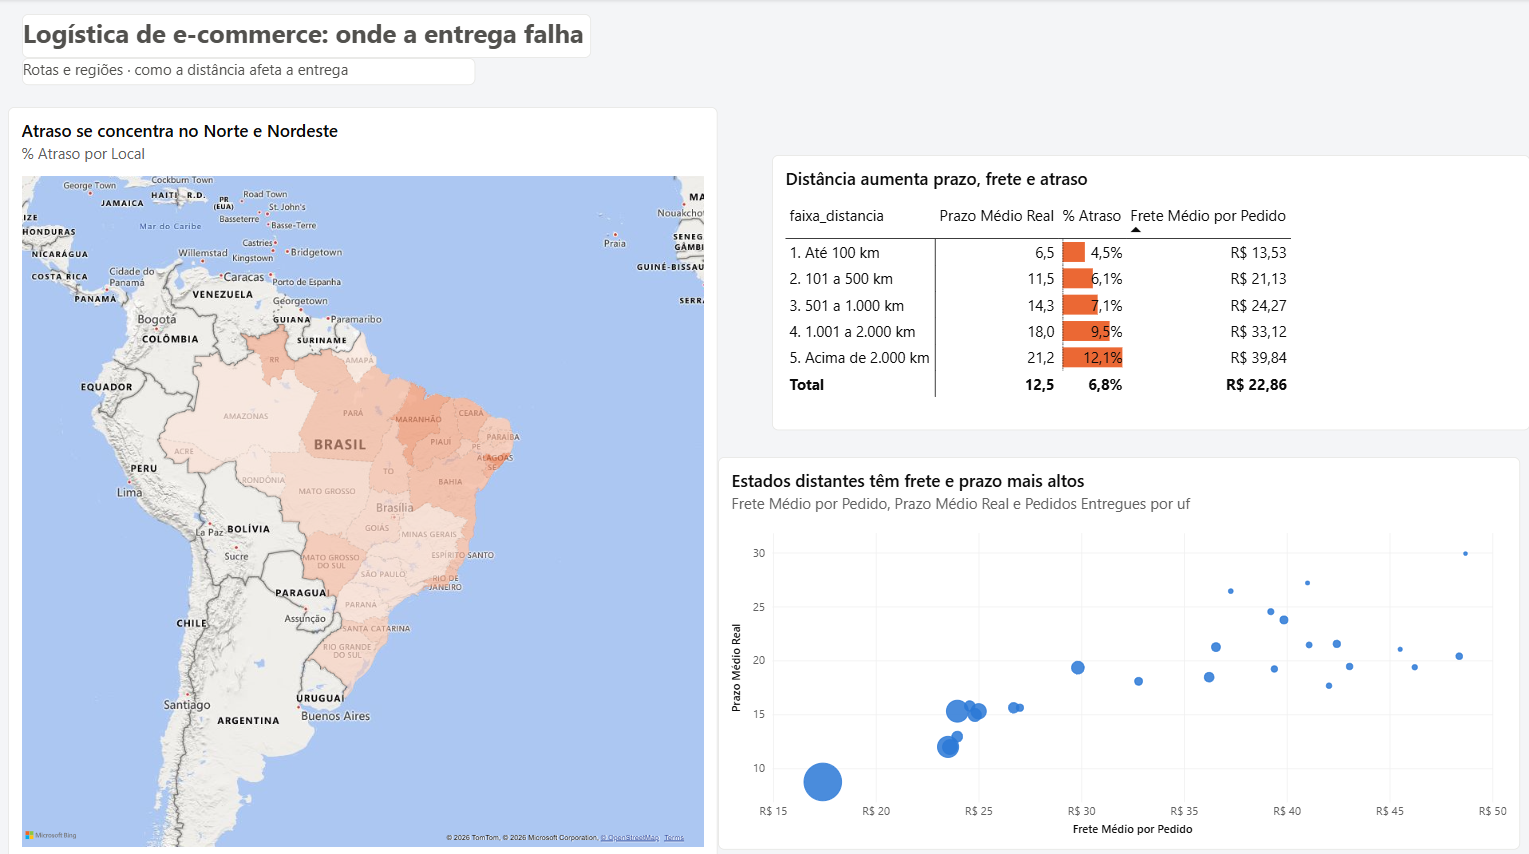

What the dashboard file says about the page in this screenshot:
{"tool":"powerbi","page":{"name":"Rotas e regiões","canvas":[1920,1080],"ordinal":1},"visuals":[{"type":"filledMap","title":"Atraso se concentra no Norte e Nordeste","fields":{"Category":["dim_estado.Local"]},"box":[12.9,135.5,889,943.9],"z":0},{"type":"pivotTable","title":"Distância aumenta prazo, frete e atraso","fields":{"Rows":["fato_pedidos.faixa_distancia"],"Values":["_Medidas.Prazo Médio Real","_Medidas.% Atraso","_Medidas.Frete Médio por Pedido"]},"box":[969.9,195.1,950.1,345],"z":1000},{"type":"scatterChart","title":"Estados distantes têm frete e prazo mais altos","fields":{"Category":["dim_estado.uf"],"Size":["_Medidas.Pedidos Entregues"],"X":["_Medidas.Frete Médio por Pedido"],"Y":["_Medidas.Prazo Médio Real"]},"box":[901.9,574.4,1005.2,492.1],"z":2000},{"type":"textbox","box":[30.7,19.4,713.1,54.9],"z":3000},{"type":"textbox","box":[30.7,74.2,567.9,33.9],"z":4000}]}

Visuals, with their boxes in screenshot pixels (x1, y1, x2, y2), scaled from the page's 1920x1080 canvas onto the 1529x854 screenshot:
"Atraso se concentra no Norte e Nordeste" filledMap: bbox=[10, 107, 718, 853]
"Distância aumenta prazo, frete e atraso" pivotTable: bbox=[772, 154, 1528, 427]
"Estados distantes têm frete e prazo mais altos" scatterChart: bbox=[718, 454, 1519, 843]
textbox: bbox=[24, 15, 592, 59]
textbox: bbox=[24, 59, 477, 85]
